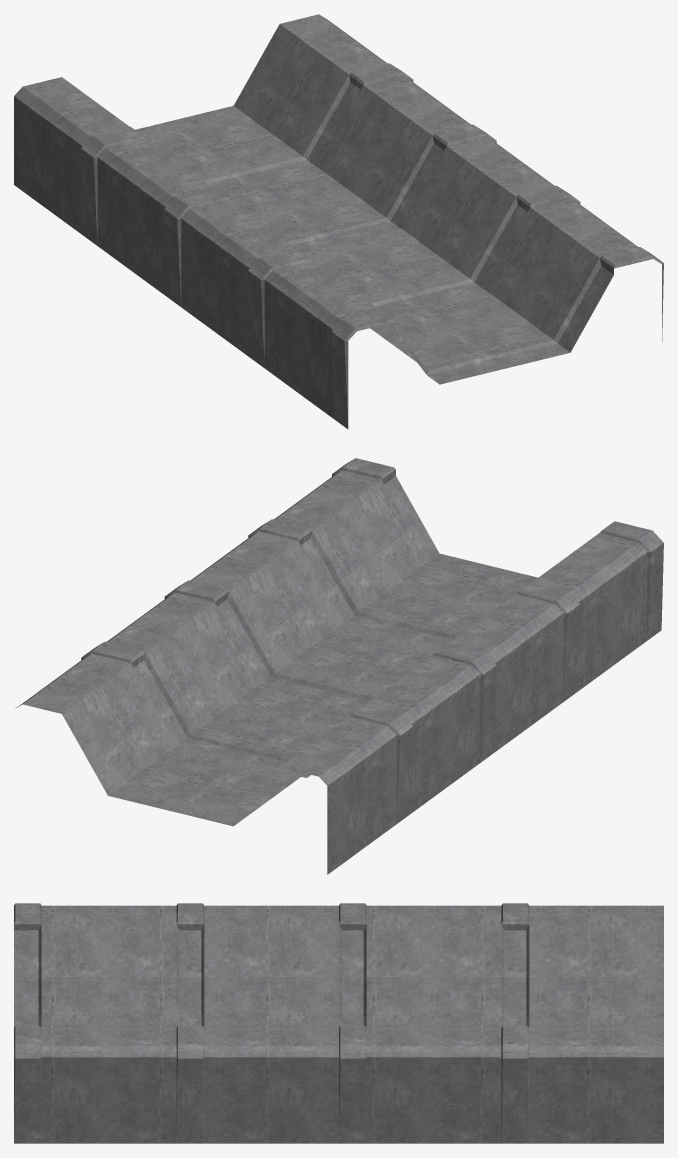
The model's file is Building_Shuidao.glb.
3 views of the same model, one above another, from view 1: azimuth 30°, elevation 25°; view 2: azimuth 150°, elevation 25°; view 3: azimuth 270°, elevation 25° (orthographic). The views are drawn at different scales.
Parts seen in each view (by area): view 1: xiutz_shuidao; view 2: xiutz_shuidao; view 3: xiutz_shuidao.
Boxes of the visible parts, bbox=[...] form: xiutz_shuidao: bbox=[14, 14, 663, 429]; xiutz_shuidao: bbox=[15, 458, 663, 874]; xiutz_shuidao: bbox=[14, 903, 663, 1143].
Size of the model in its own units: 10.64 by 3.13 by 19.29.
Materials: 1 (1 with a texture image).
